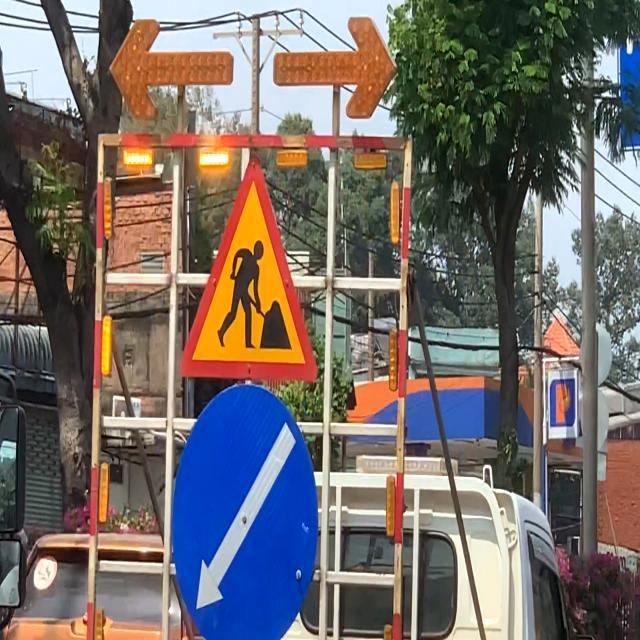Vong chuong ngai vat sang trai: (169, 386, 317, 640)
